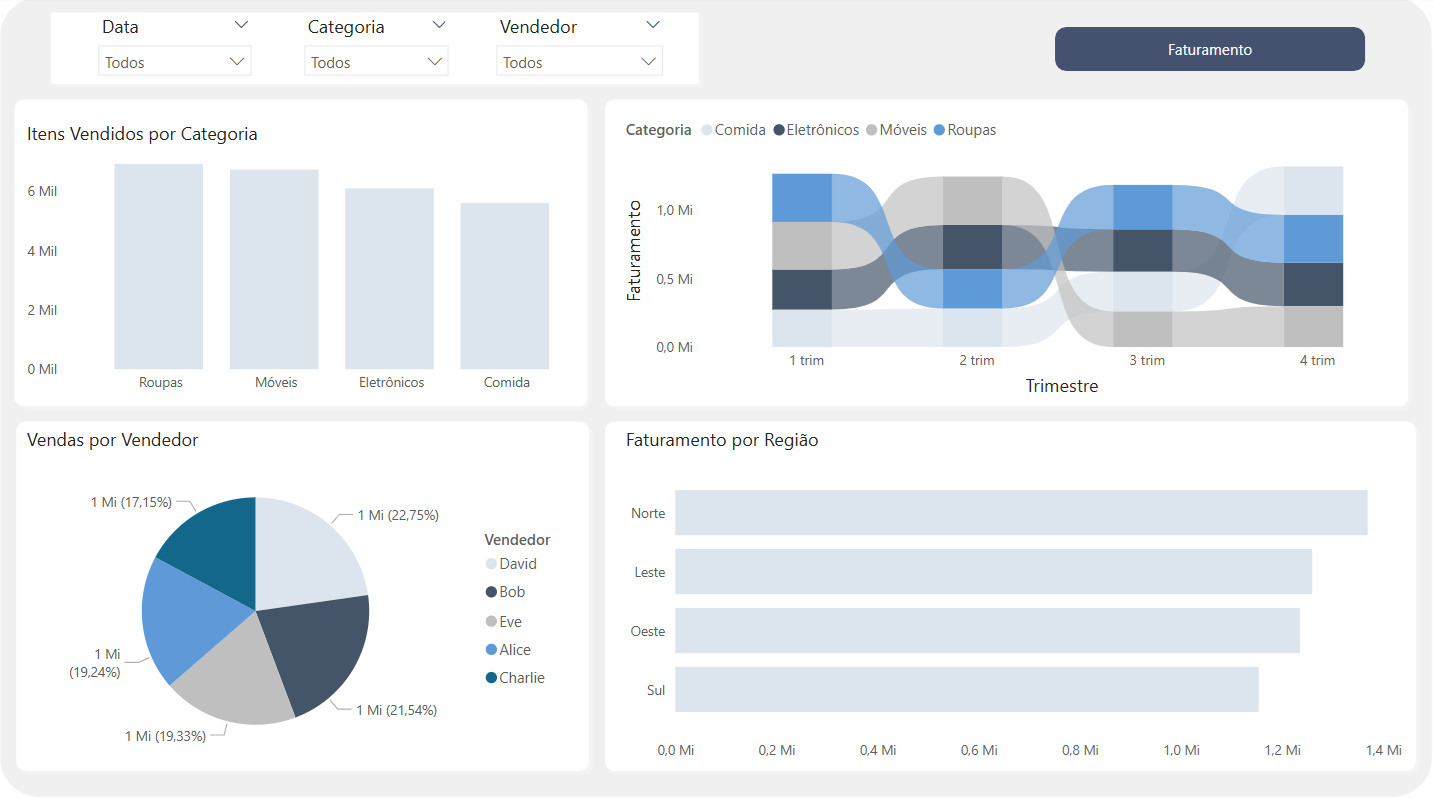

This screenshot's page, from the dashboard's own definition file:
{"tool":"powerbi","page":{"name":"Vendas","canvas":[1280,720],"ordinal":1},"visuals":[{"type":"pieChart","title":"Vendas por Vendedor","fields":{"Category":["sales_data.Vendedor"],"Y":["Medidas.Faturamento"]},"box":[24.1,381.2,495.8,304],"z":0},{"type":"ribbonChart","fields":{"Category":["Calendario.Trimestre"],"Y":["Medidas.Faturamento"],"Series":["sales_data.Categoria"]},"box":[555,97.7,714.2,261.8],"z":1000},{"type":"clusteredBarChart","fields":{"Category":["sales_data.Região"],"Y":["Medidas.Faturamento"]},"box":[555,381.2,698.5,304],"z":2000},{"type":"slicer","fields":{"Values":["Calendario.Ano","Calendario.Mês"]},"box":[82,9.7,155.6,68.8],"z":3000},{"type":"slicer","fields":{"Values":["sales_data.Categoria"]},"box":[265.4,9.7,148.4,68.8],"z":4000},{"type":"slicer","fields":{"Values":["sales_data.Vendedor"]},"box":[435.5,9.7,167.7,72.4],"z":5000},{"type":"clusteredColumnChart","fields":{"Category":["sales_data.Categoria"],"Y":["Medidas.Itens Vendidos"]},"box":[24.1,109.8,517.6,249.7],"z":6000},{"type":"pageNavigator","box":[940.9,26.4,275.5,39.1],"z":7000}]}

Visuals, with their boxes in screenshot pixels (x1, y1, x2, y2), scaled from the page's 1280x720 canvas onto the 1434x798 screenshot:
"Vendas por Vendedor" pieChart: 27, 422, 582, 759
ribbonChart - Calendario.Trimestre x Medidas.Faturamento: 622, 108, 1422, 398
clusteredBarChart - sales_data.Região x Medidas.Faturamento: 622, 422, 1404, 759
slicer - Calendario.Ano x Calendario.Mês: 92, 11, 266, 87
slicer - sales_data.Categoria: 297, 11, 464, 87
slicer - sales_data.Vendedor: 488, 11, 676, 91
clusteredColumnChart - sales_data.Categoria x Medidas.Itens Vendidos: 27, 122, 607, 398
pageNavigator: 1054, 29, 1363, 73
